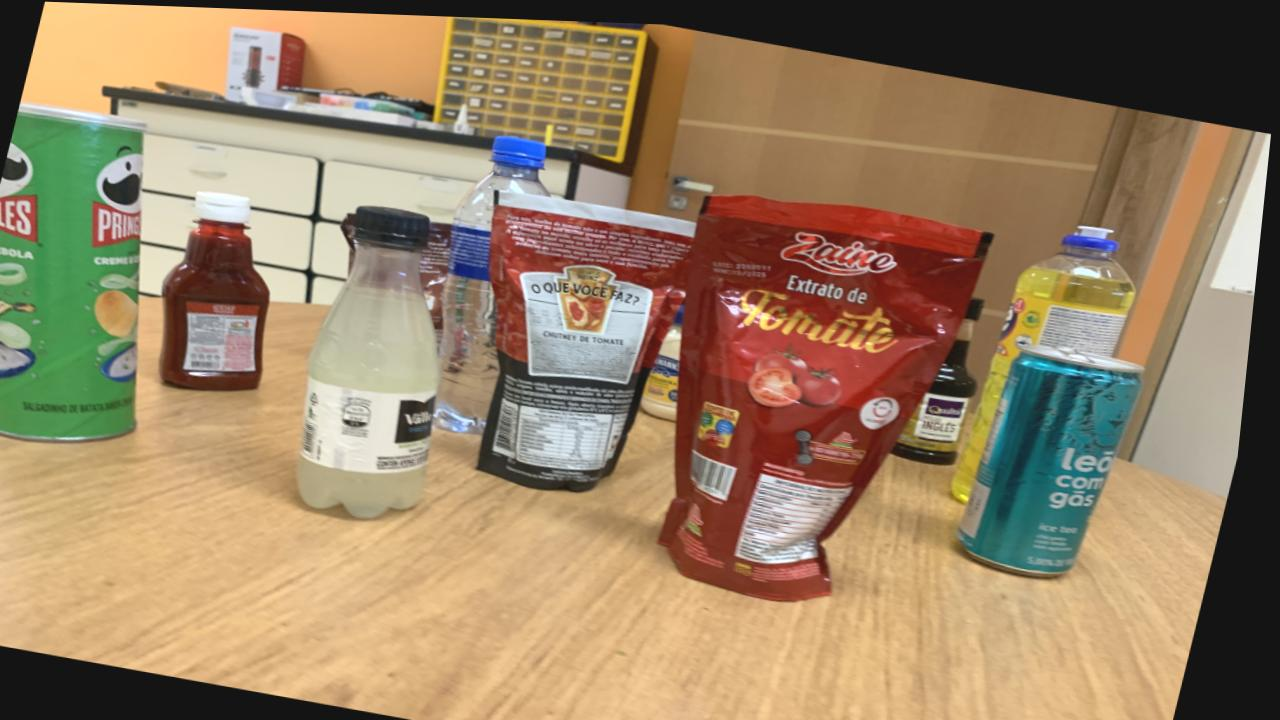Coffee-Pantry_Items: (423, 218, 457, 335), (345, 210, 361, 267)
Detergent-Cleanup_Items: (959, 217, 1141, 492)
English_Sauce-Pantry_Items: (901, 290, 990, 458)
Ketchup-Pantry_Items: (166, 189, 276, 388)
Mayonnaise-Pantry_Items: (648, 315, 688, 415)
Pringles-Snacks: (0, 102, 147, 440)
Soda-Drinks: (305, 203, 447, 515)
Tea-Drinks: (967, 336, 1149, 568)
Tomato_Sauce-Pantry_Items: (670, 189, 994, 594), (487, 187, 699, 487)
Water_Bottle-Drinks: (442, 131, 552, 429)
